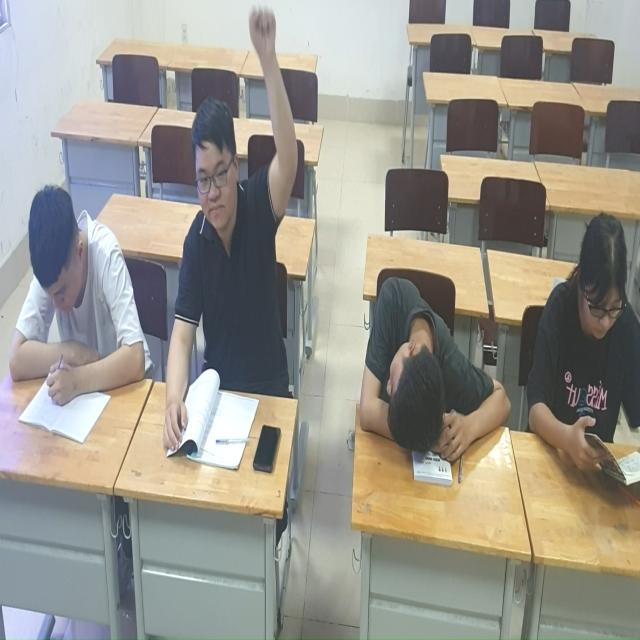raise_hand: (164, 1, 304, 462)
read: (7, 157, 154, 443), (525, 204, 640, 510)
sleep: (356, 281, 512, 479)
